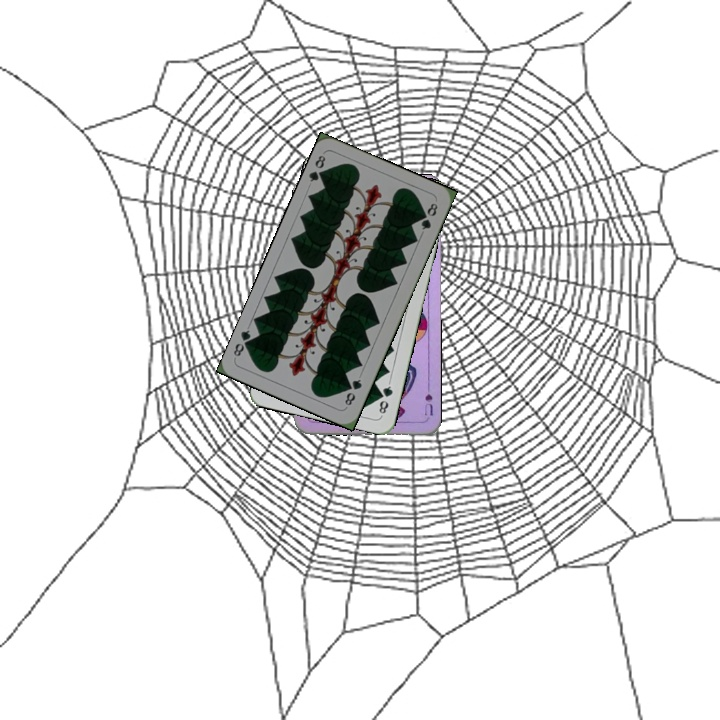G8: (305, 151, 329, 185), (375, 378, 395, 418), (341, 375, 364, 408)
SU: (421, 389, 435, 418)
